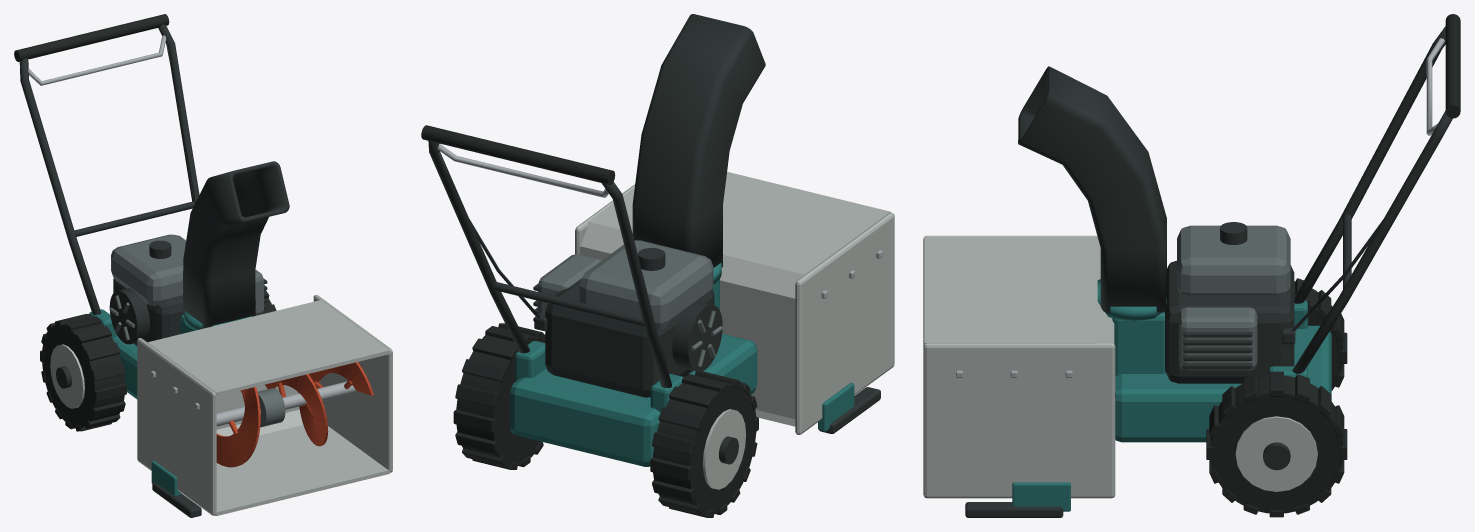
3 renders of one model, left to right at view 1: azimuth 30°, elevation 25°; view 2: azimuth 150°, elevation 25°; view 3: azimuth 270°, elevation 25°, orthographic. The views are drawn at different scales.
Visible parts, largest first — view 1: Closed sheet open-front auger bucket, Open curved discharge chute shell, Bucket side cheek -1, Bucket side cheek 1, Raised engine upper cover, Rear tire -1, Original spiral auger ribbon 1, Rear handle rail -1, Original spiral auger ribbon -1, Upper handle grip bridge, Side starter round housing, Rear wheel rim -1 (+10 smaller); view 2: Closed sheet open-front auger bucket, Open curved discharge chute shell, Bucket side cheek -1, Main closed drive chassis, Lower engine block, Raised engine upper cover, Rear tire -1, Rear tire 1, Upper handle grip bridge, Side starter round housing, Rear handle rail 1, Rear handle rail -1 (+19 smaller); view 3: Bucket side cheek 1, Closed sheet open-front auger bucket, Open curved discharge chute shell, Rear tire 1, Main closed drive chassis, Raised engine upper cover, Lower engine block, Rear wheel rim 1, Side muffler enclosure, Rear handle rail 1, Rear handle rail -1, Generic closed chute support housing (+7 smaller).
Part boxes in pixels (left/top/right/bottom): Closed sheet open-front auger bucket: left=147, top=300, right=389, bottom=515; Open curved discharge chute shell: left=183, top=161, right=289, bottom=328; Bucket side cheek -1: left=137, top=338, right=216, bottom=515; Bucket side cheek 1: left=313, top=295, right=392, bottom=472; Raised engine upper cover: left=111, top=234, right=185, bottom=305; Rear tire -1: left=42, top=323, right=124, bottom=427; Original spiral auger ribbon 1: left=265, top=362, right=373, bottom=446; Rear handle rail -1: left=19, top=58, right=101, bottom=314; Original spiral auger ribbon -1: left=216, top=387, right=260, bottom=467; Upper handle grip bridge: left=14, top=14, right=169, bottom=61; Side starter round housing: left=109, top=288, right=150, bottom=344; Rear wheel rim -1: left=50, top=344, right=84, bottom=408; Closed sheet open-front auger bucket: left=579, top=171, right=890, bottom=426; Open curved discharge chute shell: left=632, top=14, right=765, bottom=267; Bucket side cheek -1: left=795, top=212, right=894, bottom=434; Main closed drive chassis: left=510, top=333, right=757, bottom=466; Lower engine block: left=545, top=279, right=714, bottom=397; Raised engine upper cover: left=579, top=240, right=713, bottom=329; Rear tire -1: left=653, top=383, right=756, bottom=513; Rear tire 1: left=456, top=335, right=545, bottom=465; Upper handle grip bridge: left=421, top=125, right=615, bottom=184; Side starter round housing: left=672, top=301, right=722, bottom=371; Rear handle rail 1: left=428, top=141, right=529, bottom=353; Rear handle rail -1: left=601, top=182, right=671, bottom=387; Bucket side cheek 1: left=923, top=343, right=1115, bottom=498; Closed sheet open-front auger bucket: left=924, top=237, right=1114, bottom=343; Open curved discharge chute shell: left=1018, top=66, right=1166, bottom=312; Rear tire 1: left=1210, top=375, right=1342, bottom=513; Main closed drive chassis: left=1115, top=325, right=1331, bottom=442; Raised engine upper cover: left=1177, top=225, right=1290, bottom=294; Lower engine block: left=1165, top=260, right=1294, bottom=383; Rear wheel rim 1: left=1235, top=416, right=1317, bottom=491; Side muffler enclosure: left=1179, top=307, right=1257, bottom=370; Rear handle rail 1: left=1292, top=110, right=1452, bottom=373; Rear handle rail -1: left=1294, top=26, right=1445, bottom=303; Generic closed chute support housing: left=1112, top=312, right=1165, bottom=375.
Size of the model in its own units: 0.742 by 1.13 by 1.37.
